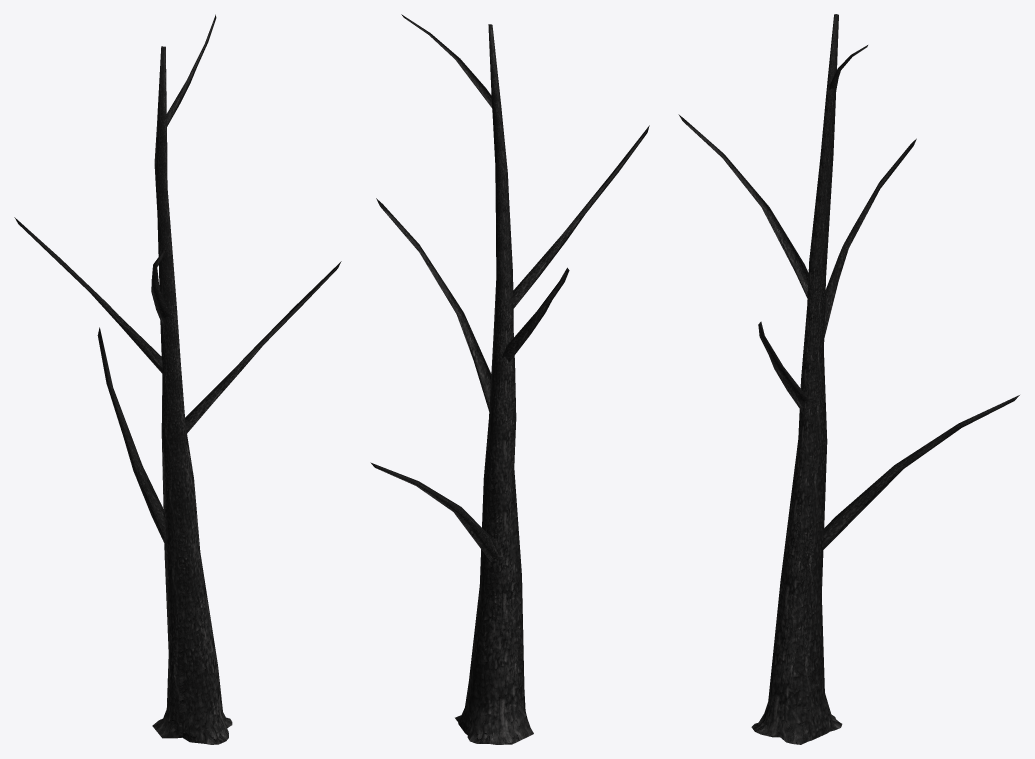
The model's file is tree_9.obj.
3 renders of one model, left to right at view 1: azimuth 30°, elevation 25°; view 2: azimuth 150°, elevation 25°; view 3: azimuth 270°, elevation 25°, orthographic. The views are drawn at different scales.
Visible parts, largest first — view 1: tree_9; view 2: tree_9; view 3: tree_9.
Part boxes in pixels (box(x1,y1,x2,y2)): tree_9: box(14, 14, 341, 744); tree_9: box(370, 14, 649, 744); tree_9: box(678, 14, 1019, 744).
Size of the model in its own units: 1.75 by 4.47 by 1.96.
